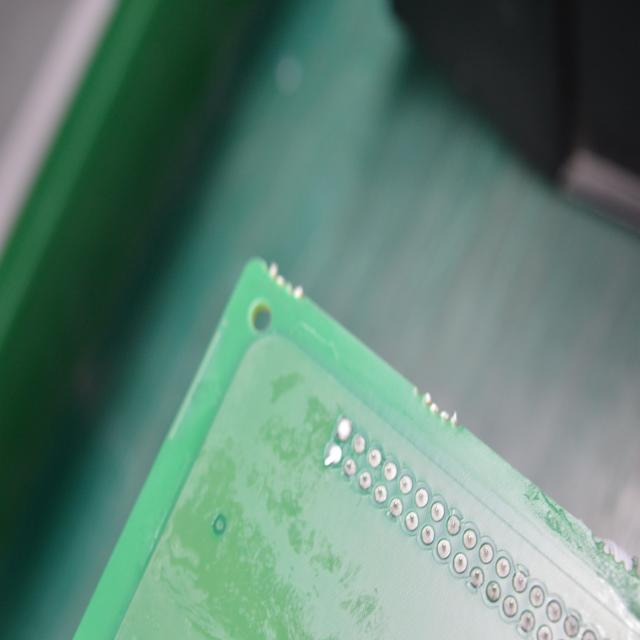redundant: (336, 417, 353, 442)
